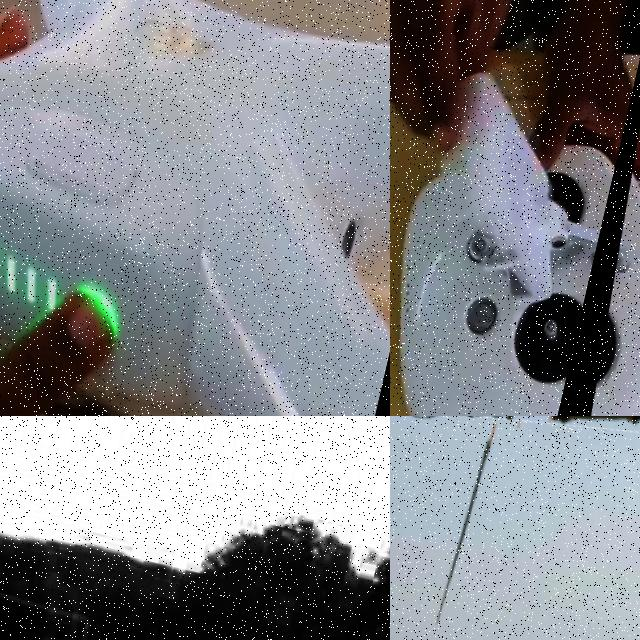drone: (0, 0, 390, 416), (537, 0, 640, 416), (390, 416, 640, 499)
